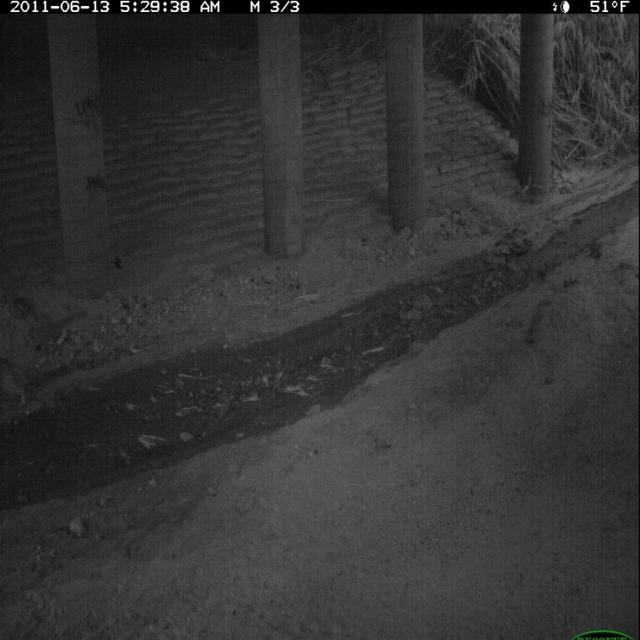bobcat: (1, 354, 30, 419)
